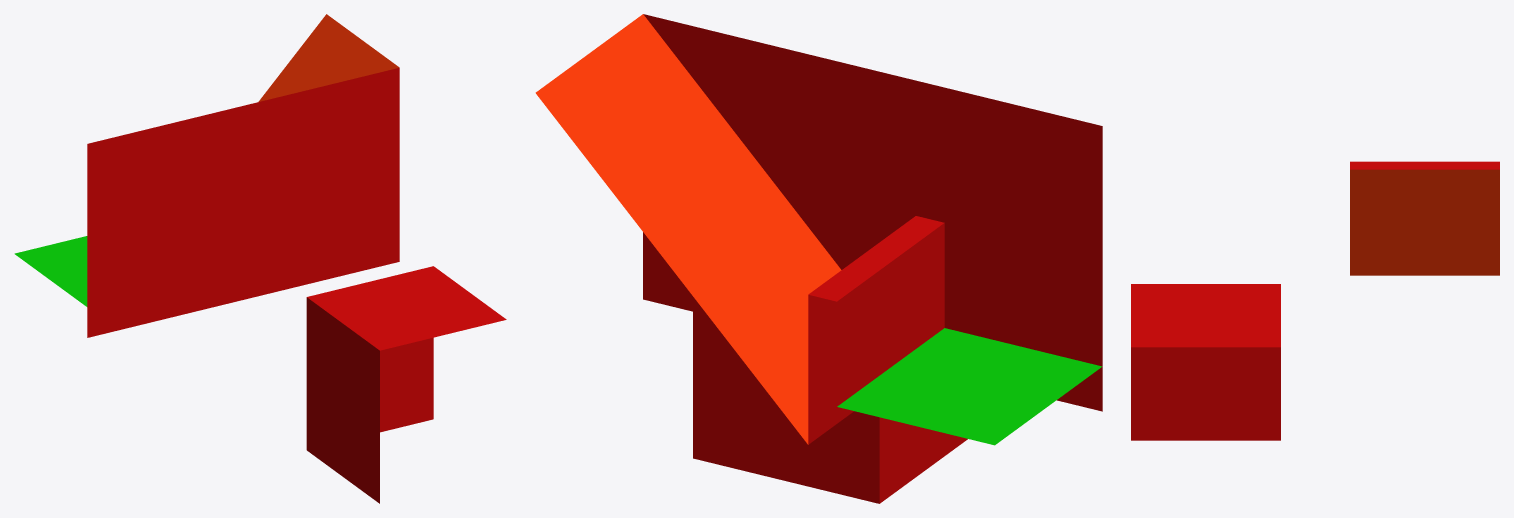
3 renders of one model, left to right at view 1: azimuth 30°, elevation 25°; view 2: azimuth 150°, elevation 25°; view 3: azimuth 270°, elevation 25°, orthographic. The views are drawn at different scales.
Visible parts, largest first — view 1: None_S_E_E_A_W_A_E_A_None; view 2: None_S_E_E_A_W_A_E_A_None; view 3: None_S_E_E_A_W_A_E_A_None.
Part boxes in pixels (<box>): None_S_E_E_A_W_A_E_A_None: <box>14,14,506,503</box>; None_S_E_E_A_W_A_E_A_None: <box>535,14,1102,503</box>; None_S_E_E_A_W_A_E_A_None: <box>1131,161,1499,440</box>.
Size of the model in its own units: 100 by 100 by 100.
